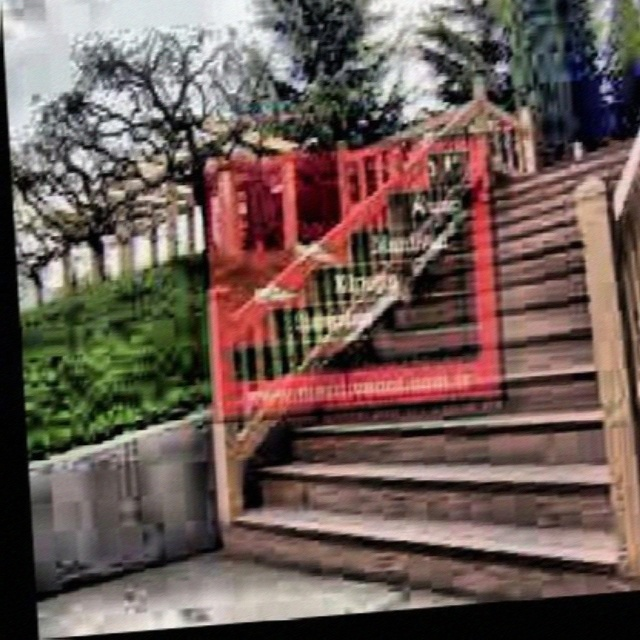stair: (220, 118, 638, 598)
